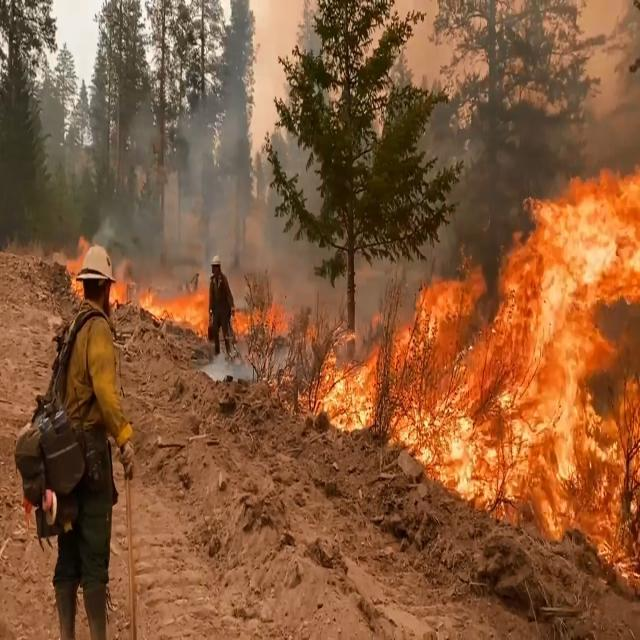Fire: (69, 158, 640, 567)
